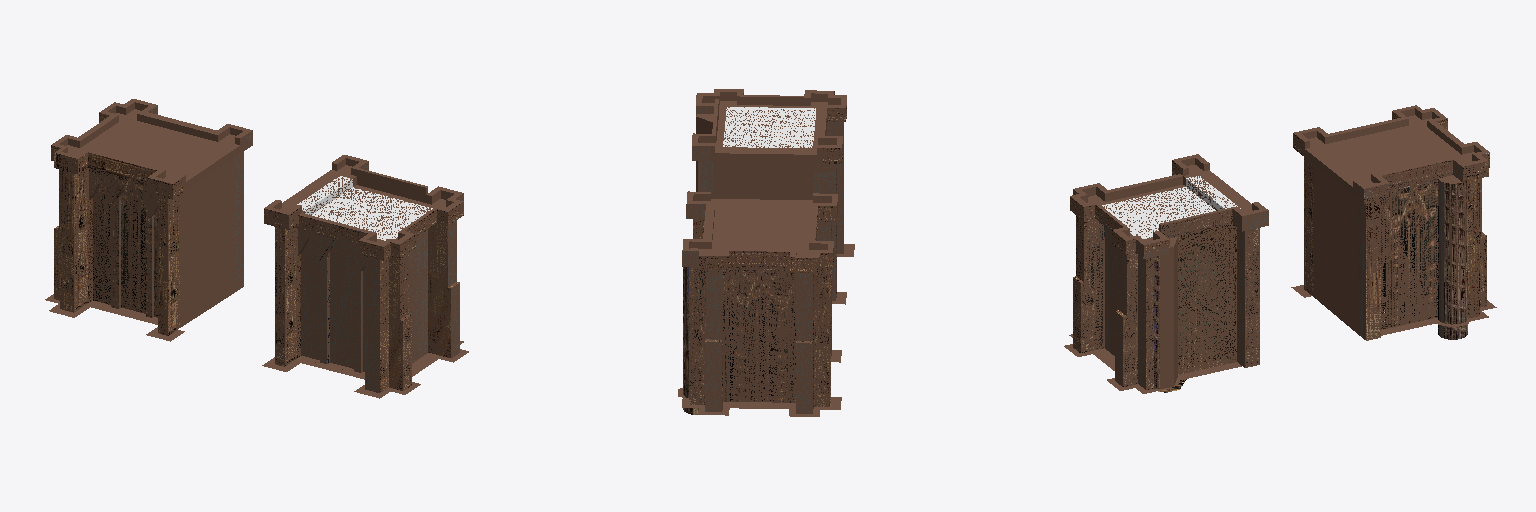
3 renders of one model, left to right at view 1: azimuth 30°, elevation 25°; view 2: azimuth 150°, elevation 25°; view 3: azimuth 270°, elevation 25°, orthographic.
Visible parts, largest first — view 1: Mesh1 Tours_gothiques Model, Mesh2 Tours_gothiques Model; view 2: Mesh1 Tours_gothiques Model, Mesh2 Tours_gothiques Model; view 3: Mesh1 Tours_gothiques Model, Mesh2 Tours_gothiques Model.
Boxes of the visible parts, x1,y1,x2,y2 form: Mesh1 Tours_gothiques Model: [45, 99, 252, 341]; Mesh2 Tours_gothiques Model: [262, 155, 468, 398]; Mesh1 Tours_gothiques Model: [678, 191, 841, 416]; Mesh2 Tours_gothiques Model: [692, 89, 854, 304]; Mesh1 Tours_gothiques Model: [1291, 105, 1496, 340]; Mesh2 Tours_gothiques Model: [1064, 154, 1268, 393].
Bounding box in the file's own units: 40.2 × 23.48 × 53.79.
Materials: 51 (37 with a texture image).